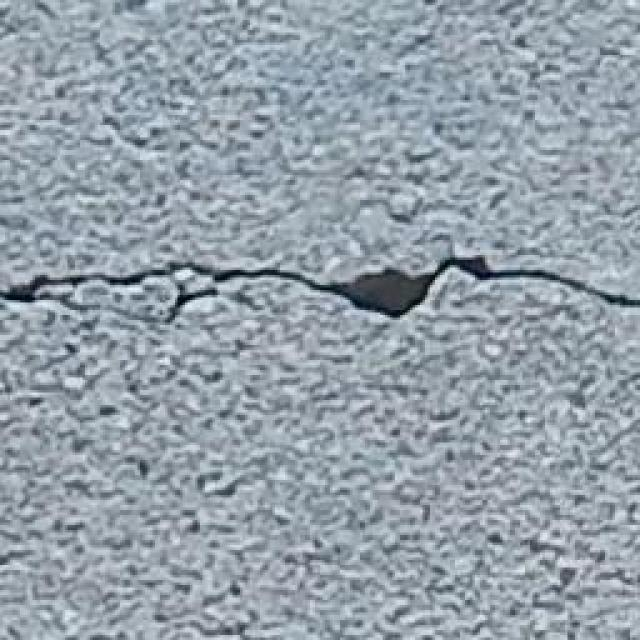concrete-crack: (0, 253, 640, 329)
